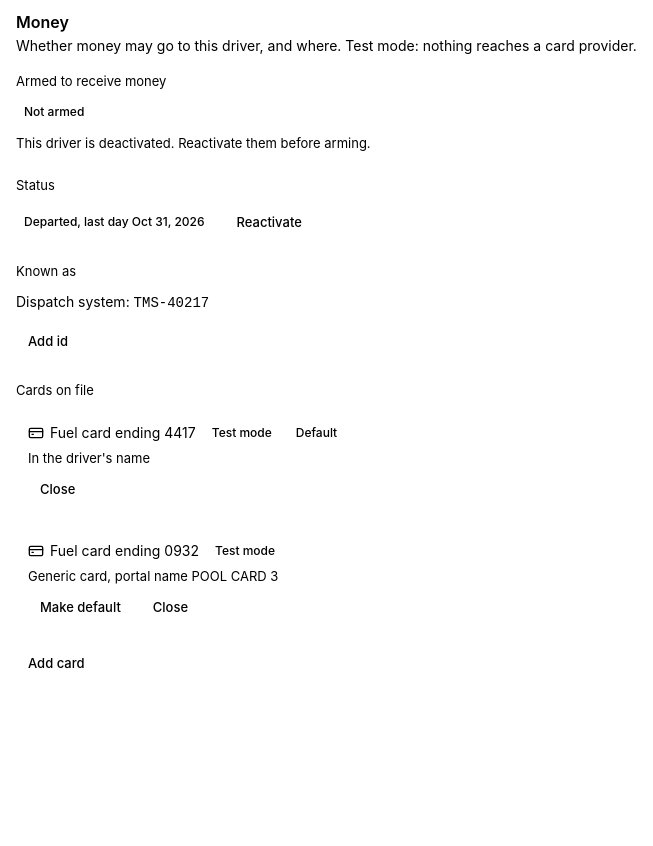
Test: DriverMoneyPanel › reactivates a departed driver without arming them, and asks for no date
This screenshot has width=653, height=846.
Check: the text "Departed, last day Oct 31, 2026" is shown, box [16,212,212,232]
Click the button "Reactivate" at (269, 222), box [224,206,314,238]
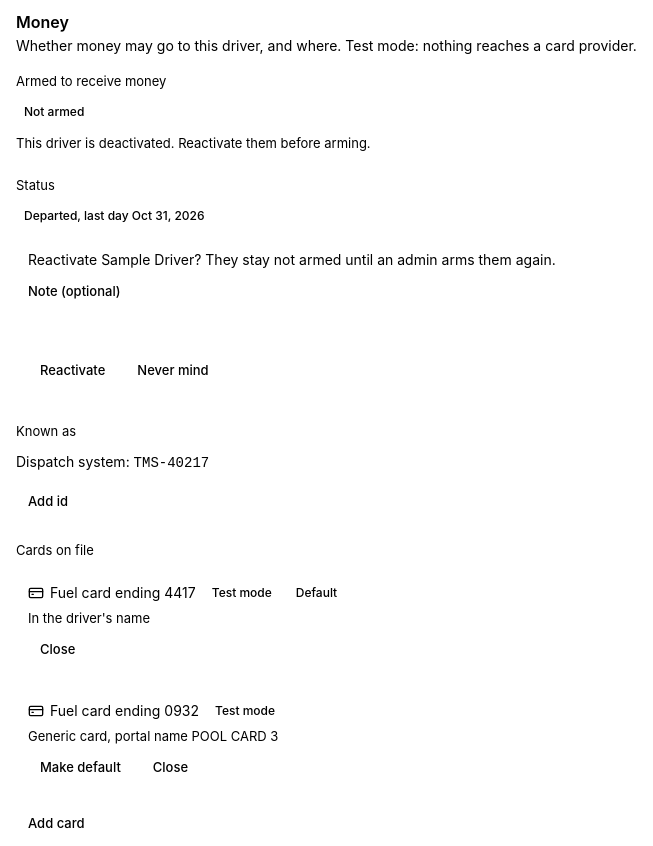
Check: the text "Reactivate Sample Driver? They stay not armed" is shown, box [28,251,556,268]
Click the button "Reactivate" at (73, 370), box [28,354,117,386]
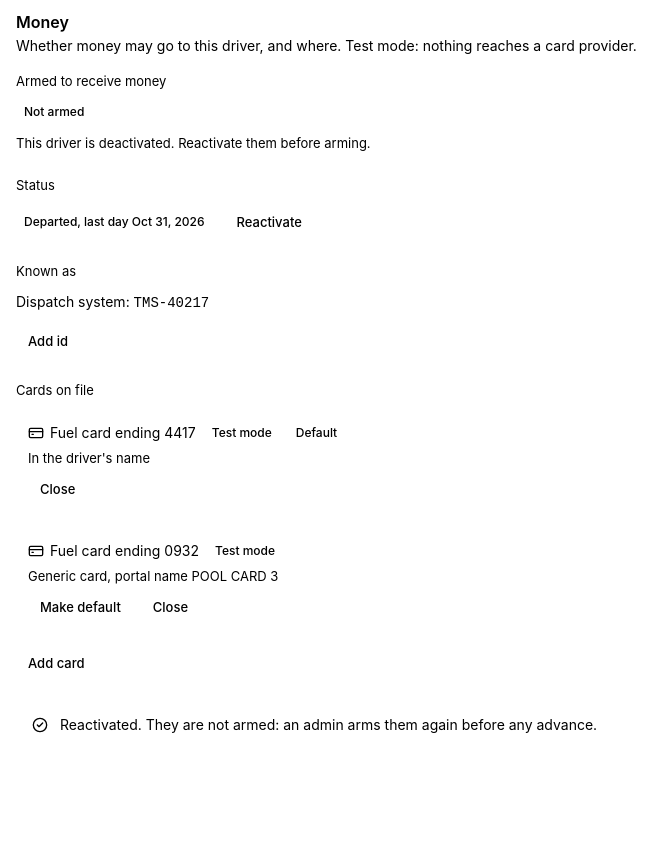
Check: the text "Reactivated. They are not armed: an admin arms them again before any advance." is shown, box [60,716,597,733]
